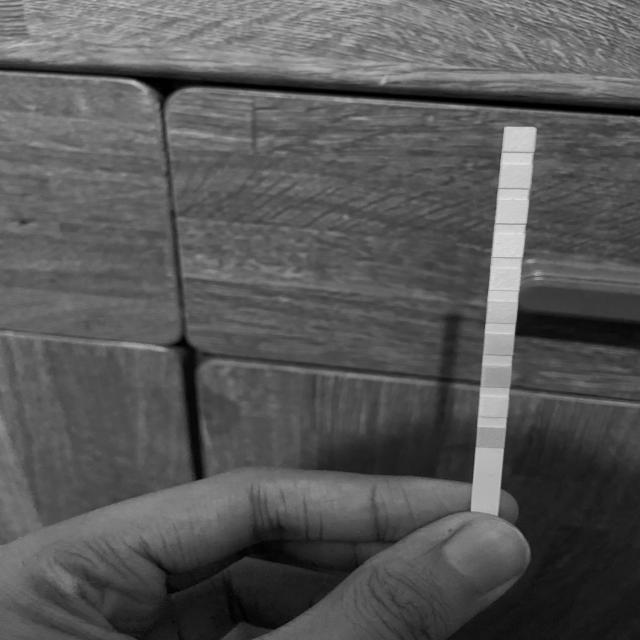Bilirubin: (482, 396, 508, 416)
Blood: (488, 303, 516, 322)
Glucose: (478, 428, 504, 447)
Ketone: (483, 366, 510, 387)
Leukocytes: (504, 129, 535, 152)
Nitrite: (502, 165, 530, 188)
Protein: (495, 236, 524, 256)
SpGravity: (486, 334, 512, 355)
Urobilinogen: (498, 201, 527, 223)
background: (0, 0, 640, 640)
pH: (492, 270, 520, 290)
strip: (472, 126, 538, 516)
